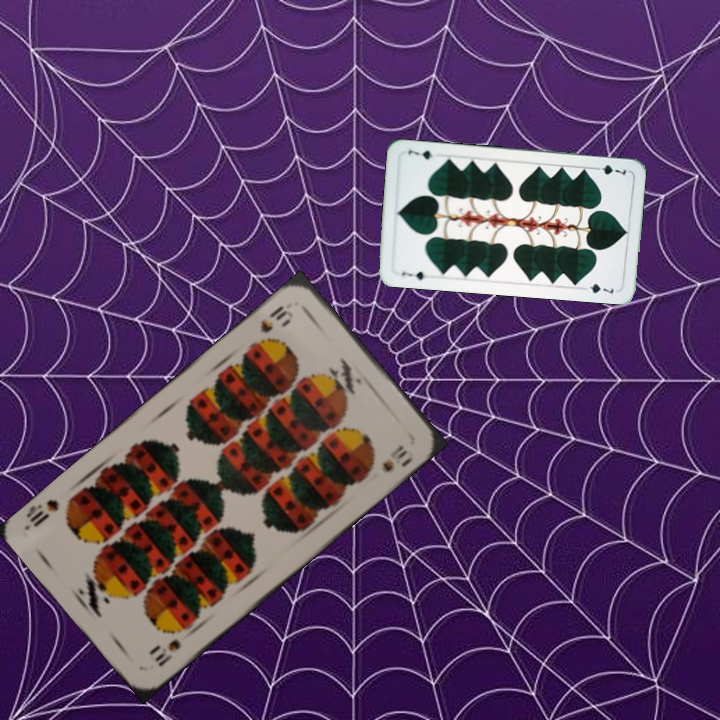G7: (589, 161, 629, 178), (397, 267, 427, 283)
S10: (256, 301, 296, 336), (147, 635, 184, 670)
